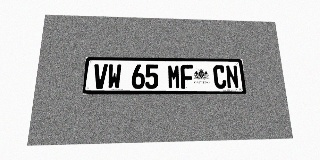5: (145, 64, 158, 89)
6: (131, 64, 145, 89)
C: (213, 65, 227, 89)
F: (180, 65, 194, 89)
M: (167, 64, 181, 89)
N: (225, 65, 239, 89)
V: (93, 64, 108, 89)
W: (107, 64, 122, 89)
